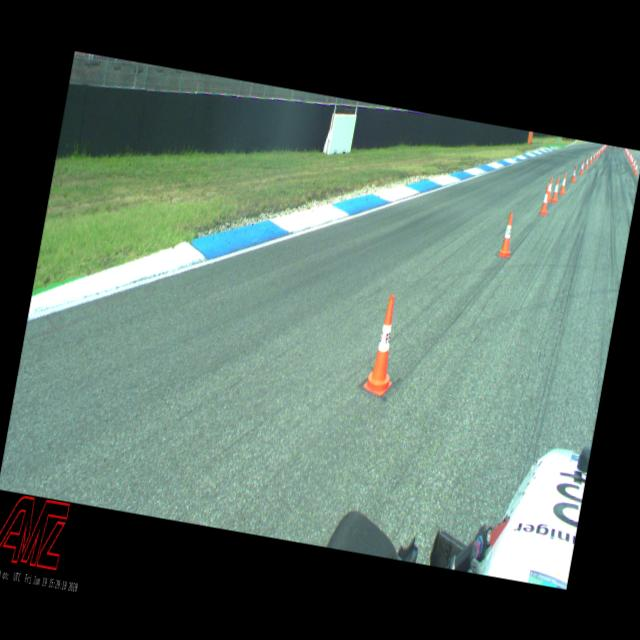orange_cone: (362, 293, 406, 397), (498, 210, 517, 256), (539, 184, 551, 214), (550, 176, 562, 202), (546, 177, 554, 202), (559, 172, 568, 194), (570, 165, 578, 182), (578, 159, 586, 175), (584, 155, 590, 168), (632, 162, 638, 174), (631, 157, 636, 170), (588, 152, 592, 164), (630, 154, 634, 165), (592, 151, 596, 160)
